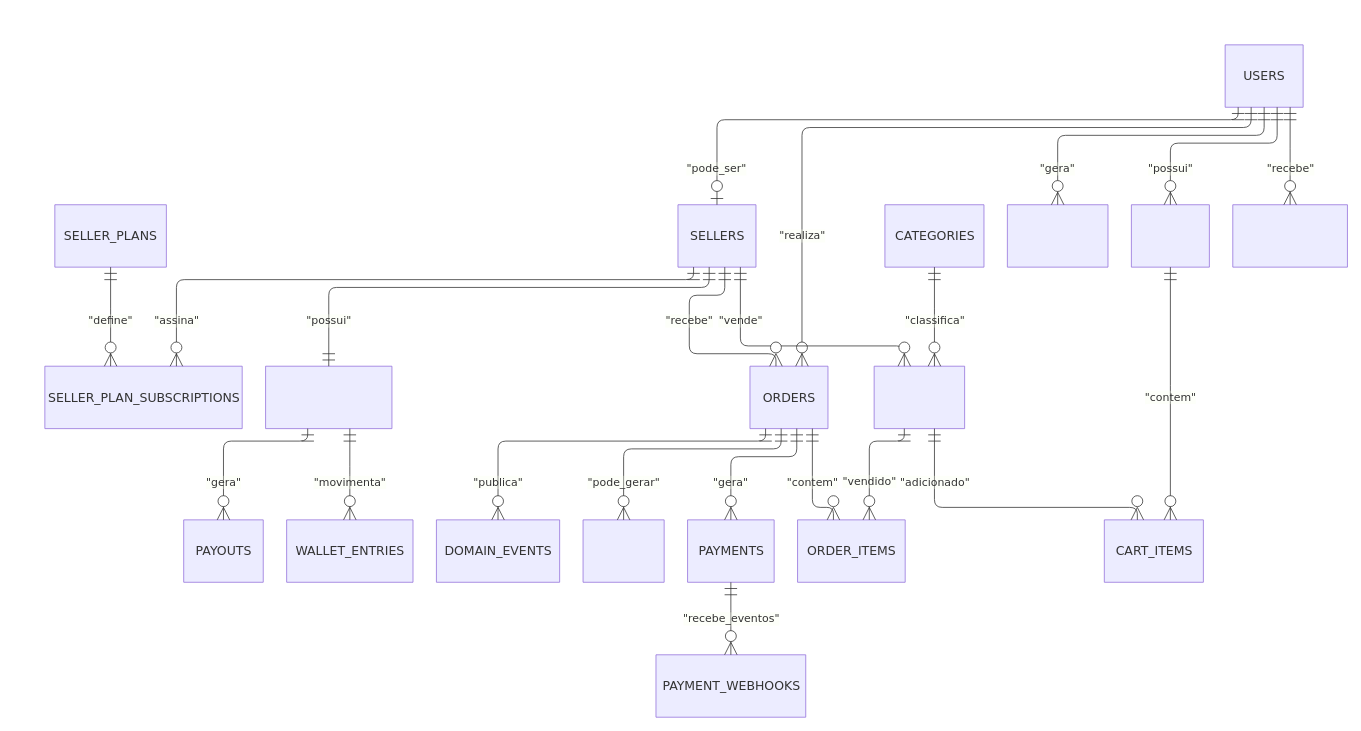
Image size: 1361x731. Some labels were removed from this diagram. Each missing label, with the centre of its shape:
AUDIT_LOGS: the point at 1057,235
CARTS: the point at 1170,235
NOTIFICATIONS: the point at 1289,235
PRODUCTS: the point at 919,397
REFUNDS: the point at 623,550
SELLER_WALLETS: the point at 328,397
